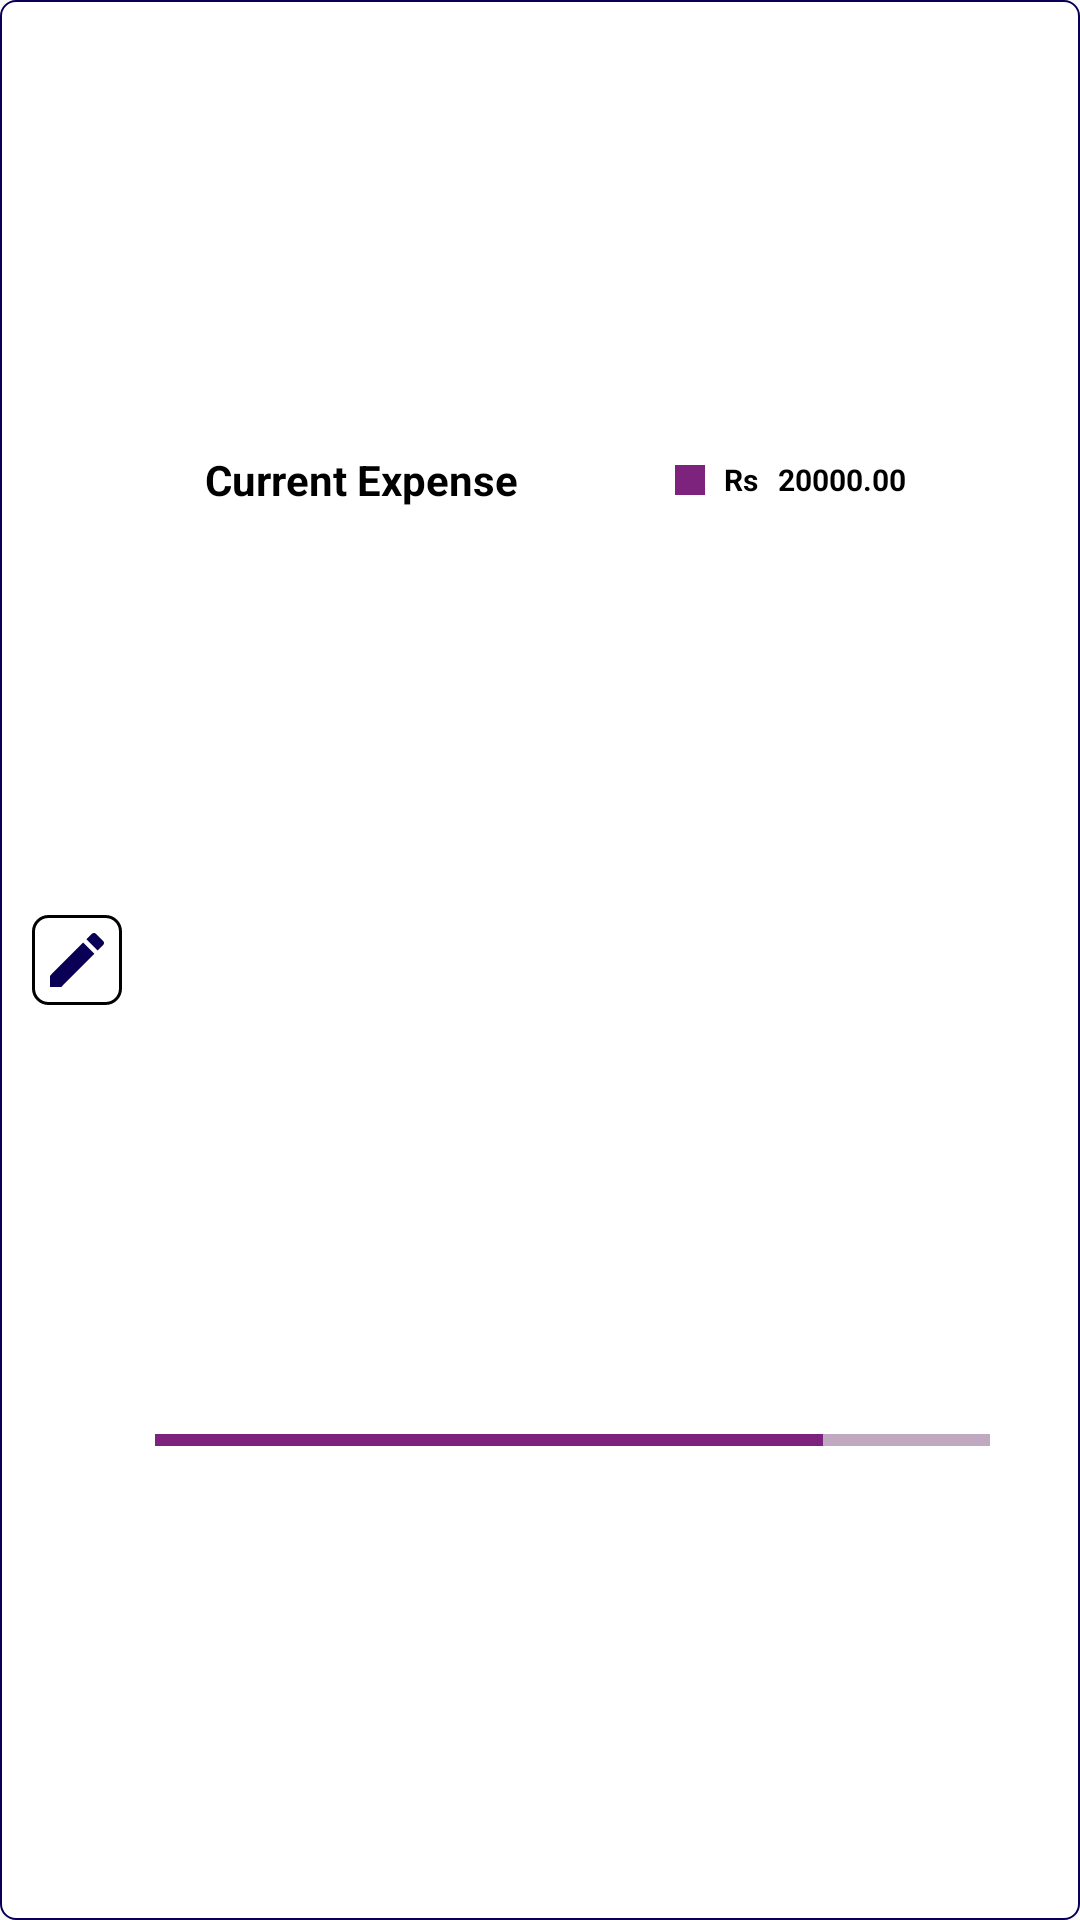

Point at icon controls on the screen. Image size 1080px x 1920px, points as (x=x, y=y).
edit: (x=77, y=960)
